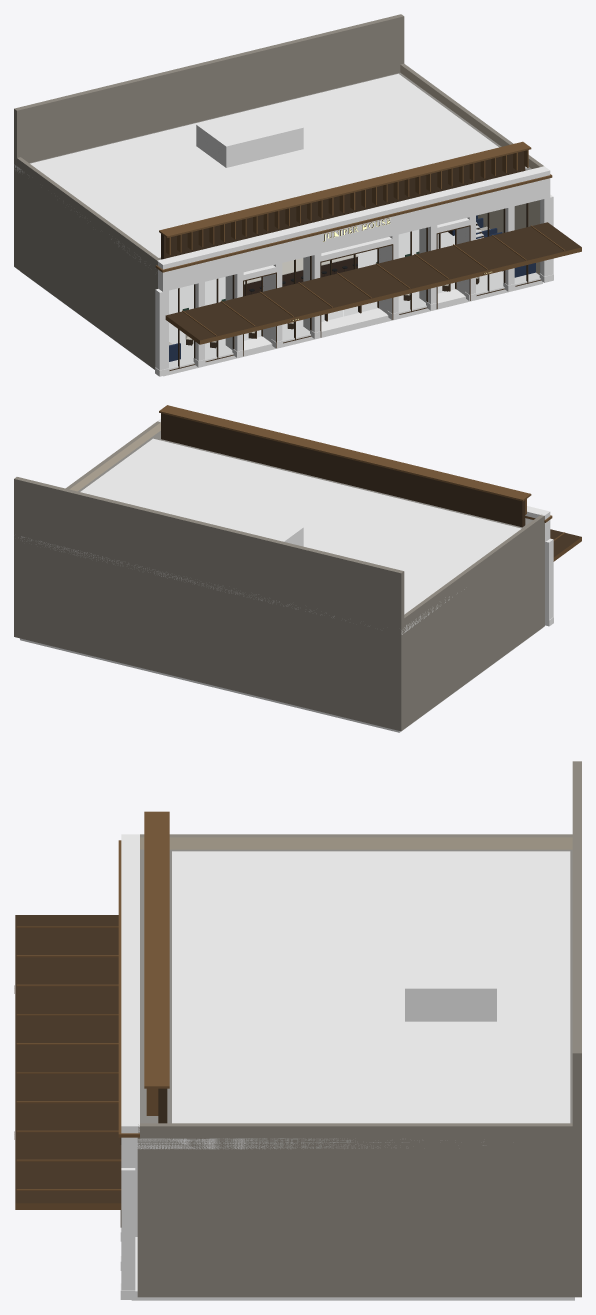
Rendered from juniper_house_lod1.glb.
The picture shows the model from 3 angles, top to bottom: view 1: azimuth 30°, elevation 25°; view 2: azimuth 150°, elevation 25°; view 3: azimuth 270°, elevation 25°; orthographic projection. The views are drawn at different scales.
Parts seen in each view (by area): view 1: B02_LOD1_BUILDING_EXTERIOR_Stone, B02_LOD1_BUILDING_EXTERIOR_Roof, B02_LOD1_FACADE_DETAILS_Bronze, B02_LOD1_BUILDING_EXTERIOR_RearInterface, B02_LOD1_BUILDING_INTERIOR_GroundSlab, B02_LOD1_DISPLAY_OBJECTS_Bar, B02_LOD1_FURNITURE_Dining; view 2: B02_LOD1_BUILDING_EXTERIOR_Stone, B02_LOD1_BUILDING_EXTERIOR_RearInterface, B02_LOD1_BUILDING_EXTERIOR_Roof, B02_LOD1_FACADE_DETAILS_Bronze, B02_LOD1_BUILDING_INTERIOR_GroundSlab; view 3: B02_LOD1_BUILDING_EXTERIOR_Roof, B02_LOD1_BUILDING_EXTERIOR_Stone, B02_LOD1_FACADE_DETAILS_Bronze, B02_LOD1_BUILDING_EXTERIOR_RearInterface, B02_LOD1_BUILDING_INTERIOR_GroundSlab.
Part boxes in pixels (box(x1,y1,x2,y2)): B02_LOD1_BUILDING_EXTERIOR_Stone: box(14, 63, 553, 376); B02_LOD1_BUILDING_EXTERIOR_Roof: box(14, 72, 550, 279); B02_LOD1_FACADE_DETAILS_Bronze: box(155, 141, 581, 344); B02_LOD1_BUILDING_EXTERIOR_RearInterface: box(14, 14, 404, 267); B02_LOD1_BUILDING_INTERIOR_GroundSlab: box(20, 229, 542, 376); B02_LOD1_DISPLAY_OBJECTS_Bar: box(244, 254, 358, 296); B02_LOD1_FURNITURE_Dining: box(169, 215, 535, 361); B02_LOD1_BUILDING_EXTERIOR_Stone: box(14, 413, 553, 731); B02_LOD1_BUILDING_EXTERIOR_RearInterface: box(14, 477, 404, 730); B02_LOD1_BUILDING_EXTERIOR_Roof: box(18, 430, 550, 634); B02_LOD1_FACADE_DETAILS_Bronze: box(159, 405, 581, 561); B02_LOD1_BUILDING_INTERIOR_GroundSlab: box(20, 628, 542, 732); B02_LOD1_BUILDING_EXTERIOR_Roof: box(121, 849, 572, 1149); B02_LOD1_BUILDING_EXTERIOR_Stone: box(120, 834, 581, 1299); B02_LOD1_FACADE_DETAILS_Bronze: box(15, 811, 169, 1209); B02_LOD1_BUILDING_EXTERIOR_RearInterface: box(572, 761, 581, 1296); B02_LOD1_BUILDING_INTERIOR_GroundSlab: box(131, 1237, 574, 1300).
Bounding box in the file's own units: 30.56 × 12 × 24.67.
